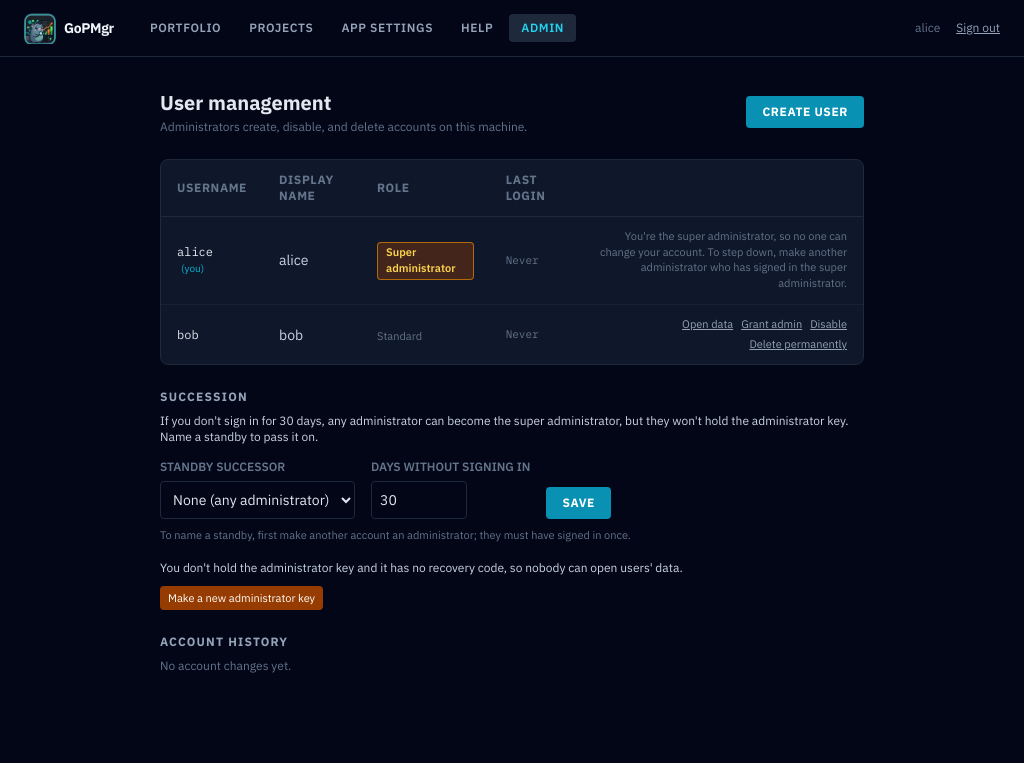
Scenario: AdminPanel account removal › reports an incomplete deletion as a deletion, not as a failure
Click the button with aria-label "Delete account bob permanently" at (798, 344), box [749,336,847,352]
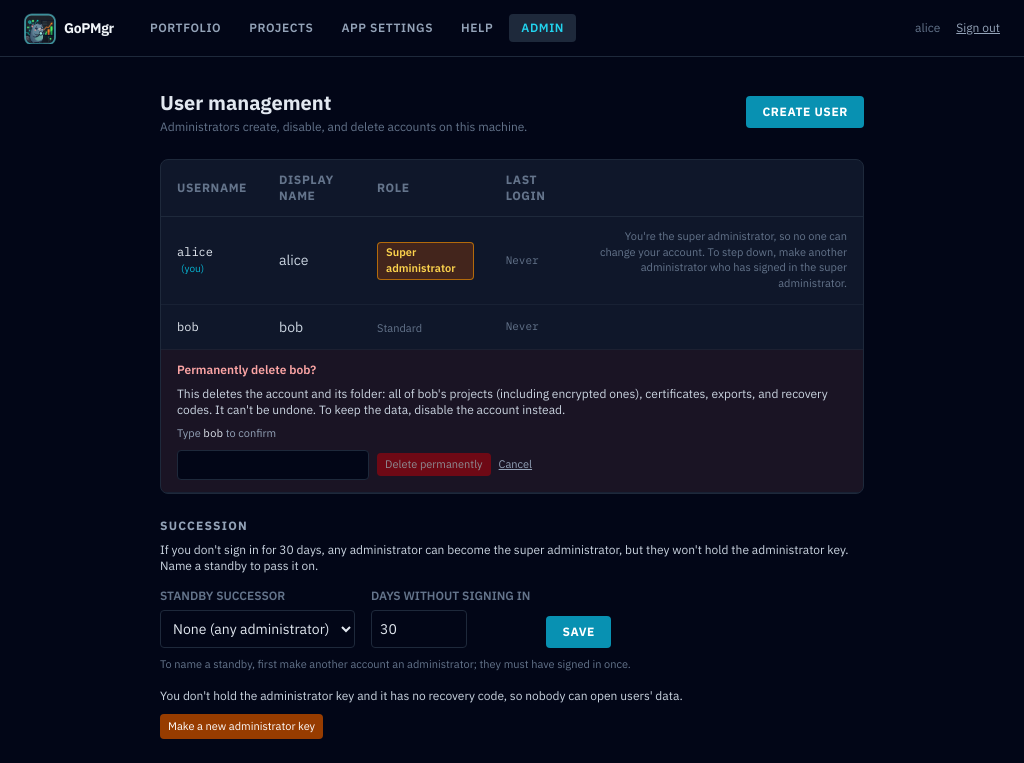
Type "bob" into the field labelled "Type bob to confirm" at (273, 464), box [177,450,369,480]
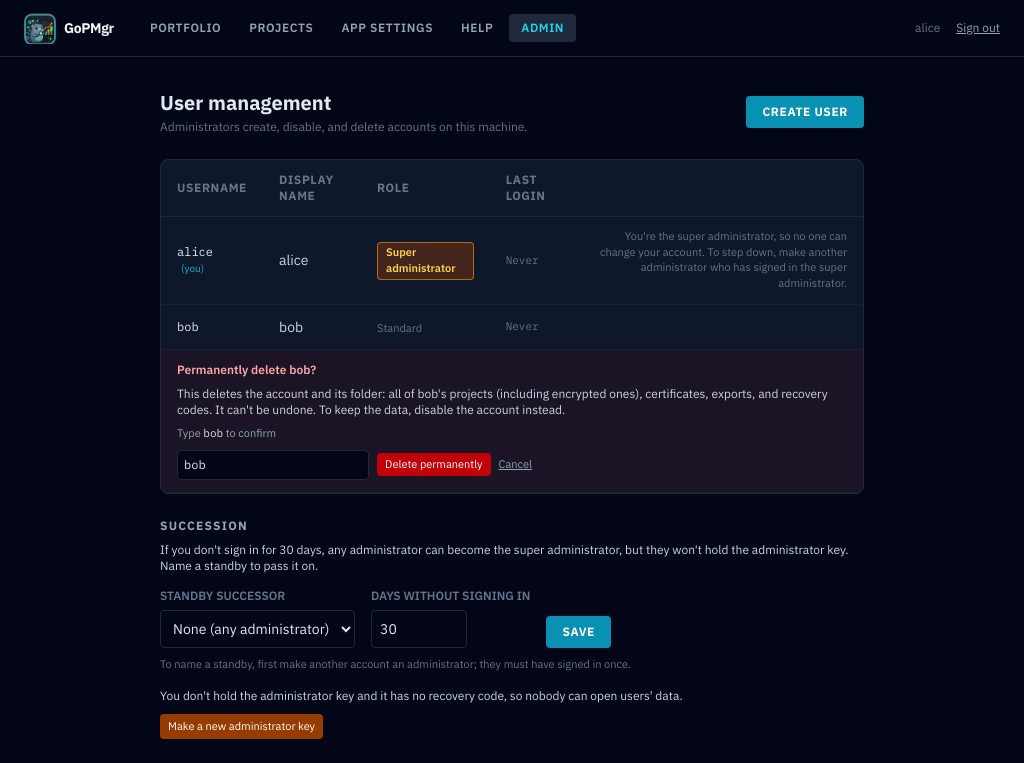
Click the button "Delete permanently" at (434, 465), box [377,453,491,476]
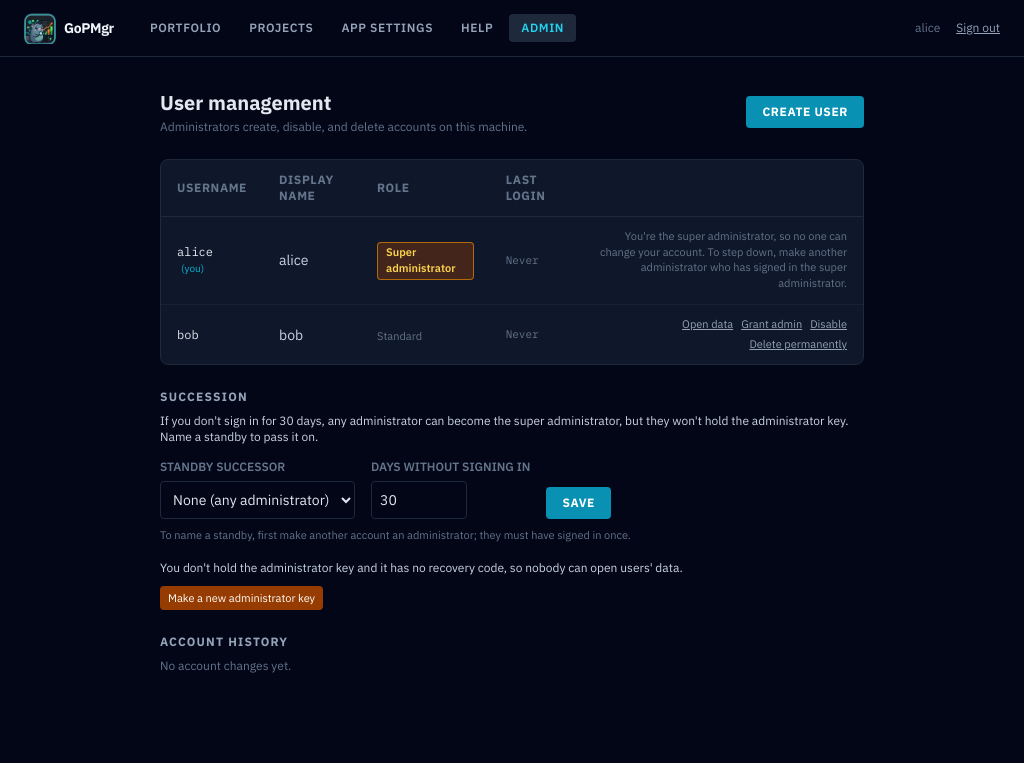
Check: the text "Permanently delete bob" is gone
